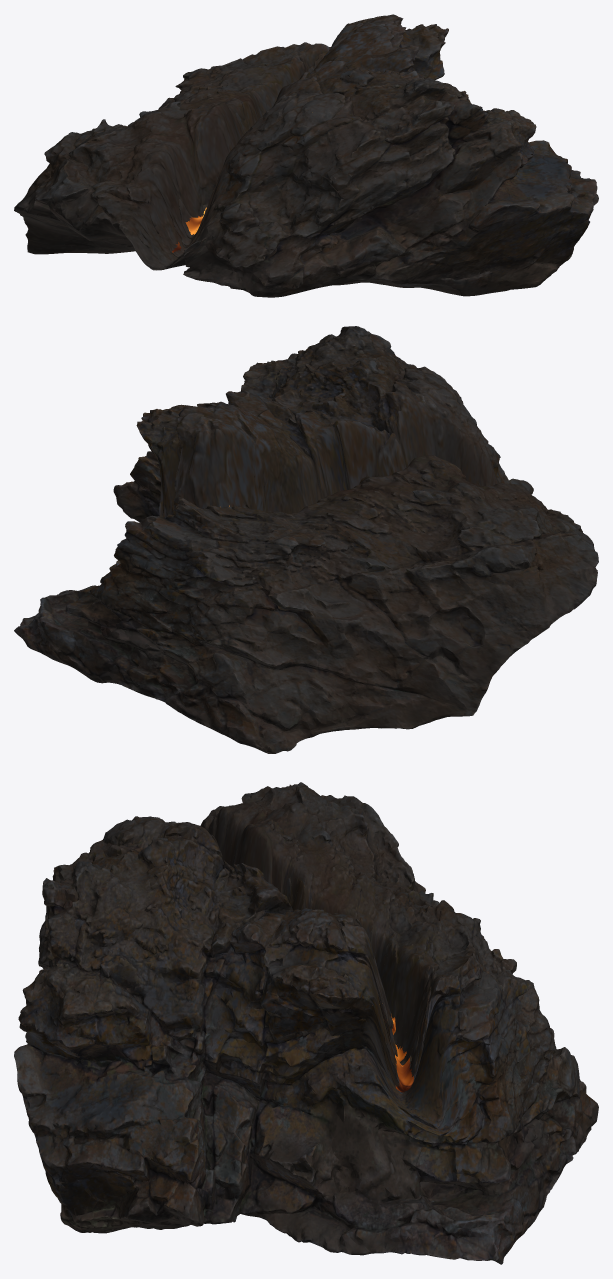
The model's file is GZ177_Vesuvius_ANIMATED_GamePreview_2K.glb.
3 renders of one model, top to bottom at view 1: azimuth 30°, elevation 25°; view 2: azimuth 150°, elevation 25°; view 3: azimuth 270°, elevation 25°, orthographic. The views are drawn at different scales.
Parts seen in each view (by area): view 1: SM_GZ177_Vesuvius_GamePreview_2K; view 2: SM_GZ177_Vesuvius_GamePreview_2K; view 3: SM_GZ177_Vesuvius_GamePreview_2K.
Boxes of the visible parts, box(x1,y1,x2,y2) form: SM_GZ177_Vesuvius_GamePreview_2K: box(14, 14, 598, 297); SM_GZ177_Vesuvius_GamePreview_2K: box(14, 326, 598, 753); SM_GZ177_Vesuvius_GamePreview_2K: box(14, 782, 598, 1264).
Bounding box in the file's own units: 0.88 × 0.4069 × 0.67.
3 materials, 3 textured.
